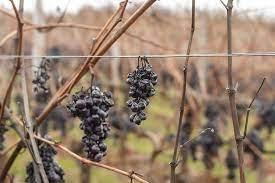Grape Rotten: (66, 85, 115, 162), (125, 56, 158, 126), (25, 134, 65, 182), (32, 57, 51, 102)
